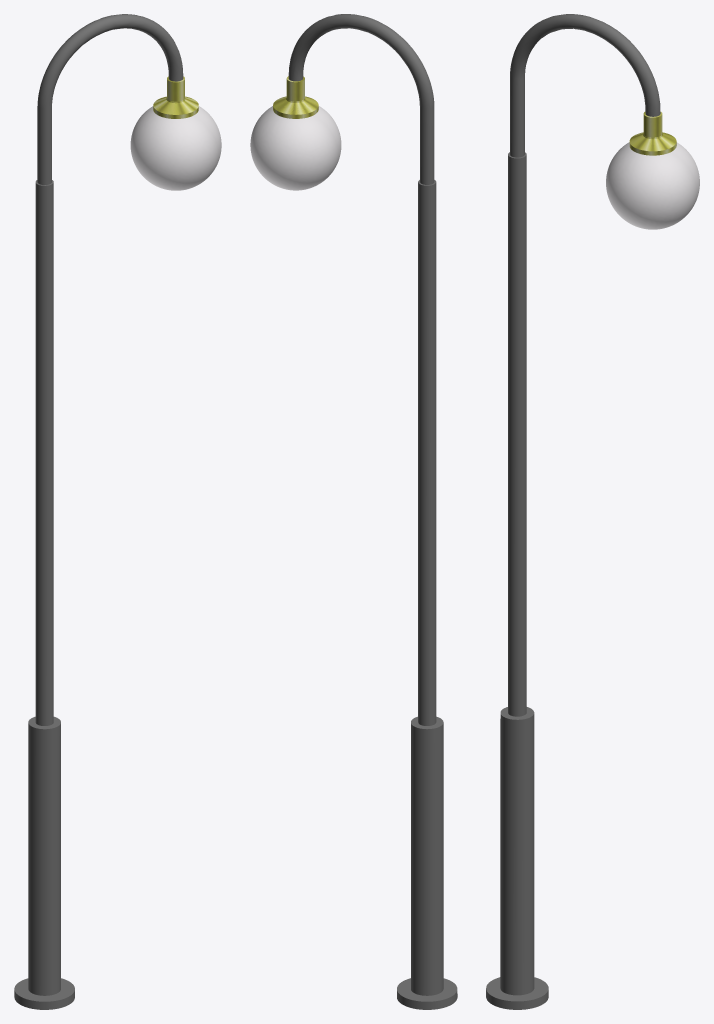
The picture shows the model from 3 angles, left to right: view 1: azimuth 30°, elevation 25°; view 2: azimuth 150°, elevation 25°; view 3: azimuth 330°, elevation 25°; orthographic projection. The views are drawn at different scales.
Parts seen in each view (by area): view 1: Geom3D (×3); view 2: Geom3D (×3); view 3: Geom3D (×3).
Part boxes in pixels (x1,y1,x2,y2): Geom3D (×3): [14, 14, 221, 1009]; Geom3D (×3): [250, 14, 457, 1009]; Geom3D (×3): [486, 14, 699, 1009].
Size of the model in its own units: 0.7498 by 3.51 by 0.3.
3 materials, 1 textured.
